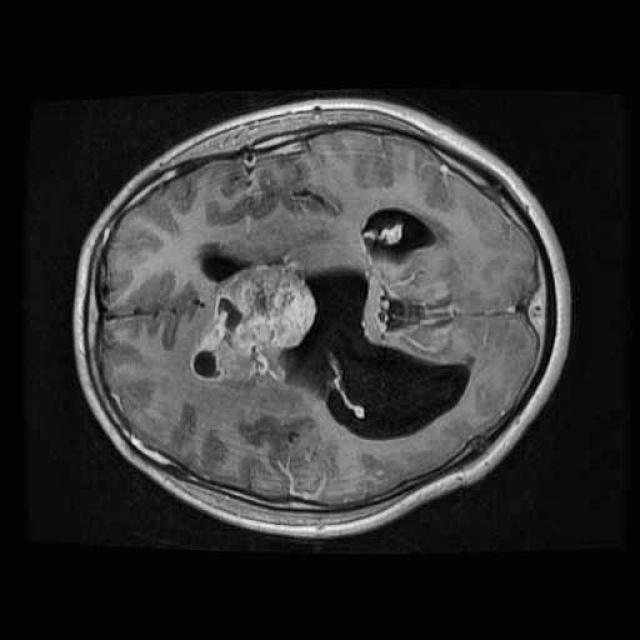Non-Tumor: (184, 254, 328, 394)
